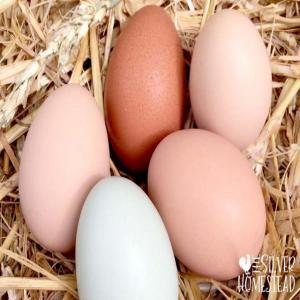Egg: (143, 95, 268, 290), (14, 74, 122, 255), (105, 5, 192, 178), (69, 169, 185, 297), (186, 5, 276, 150)
